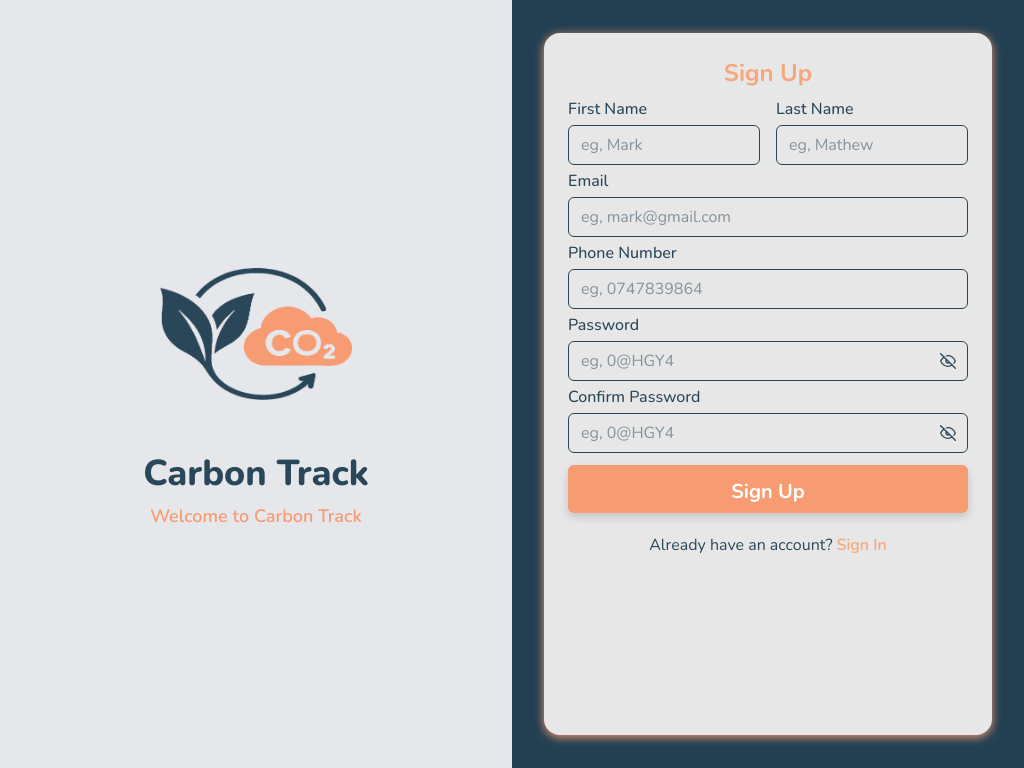
Test: SignupPage › restricts phone number input to digits and limits length
Type "+254709090909abc" into the field with placeholder "eg, 0747839864" at [768, 289], box [568,269,968,309]
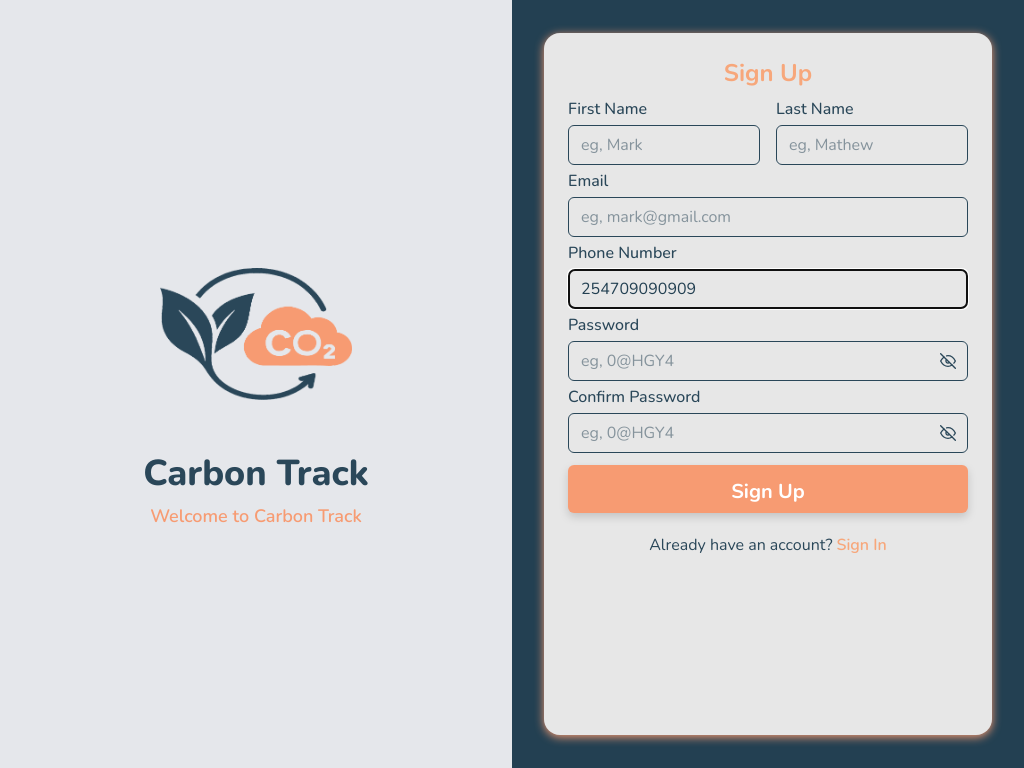
expect the field with placeholder "eg, 0747839864" holds "254709090909": met, box [568,269,968,309]
